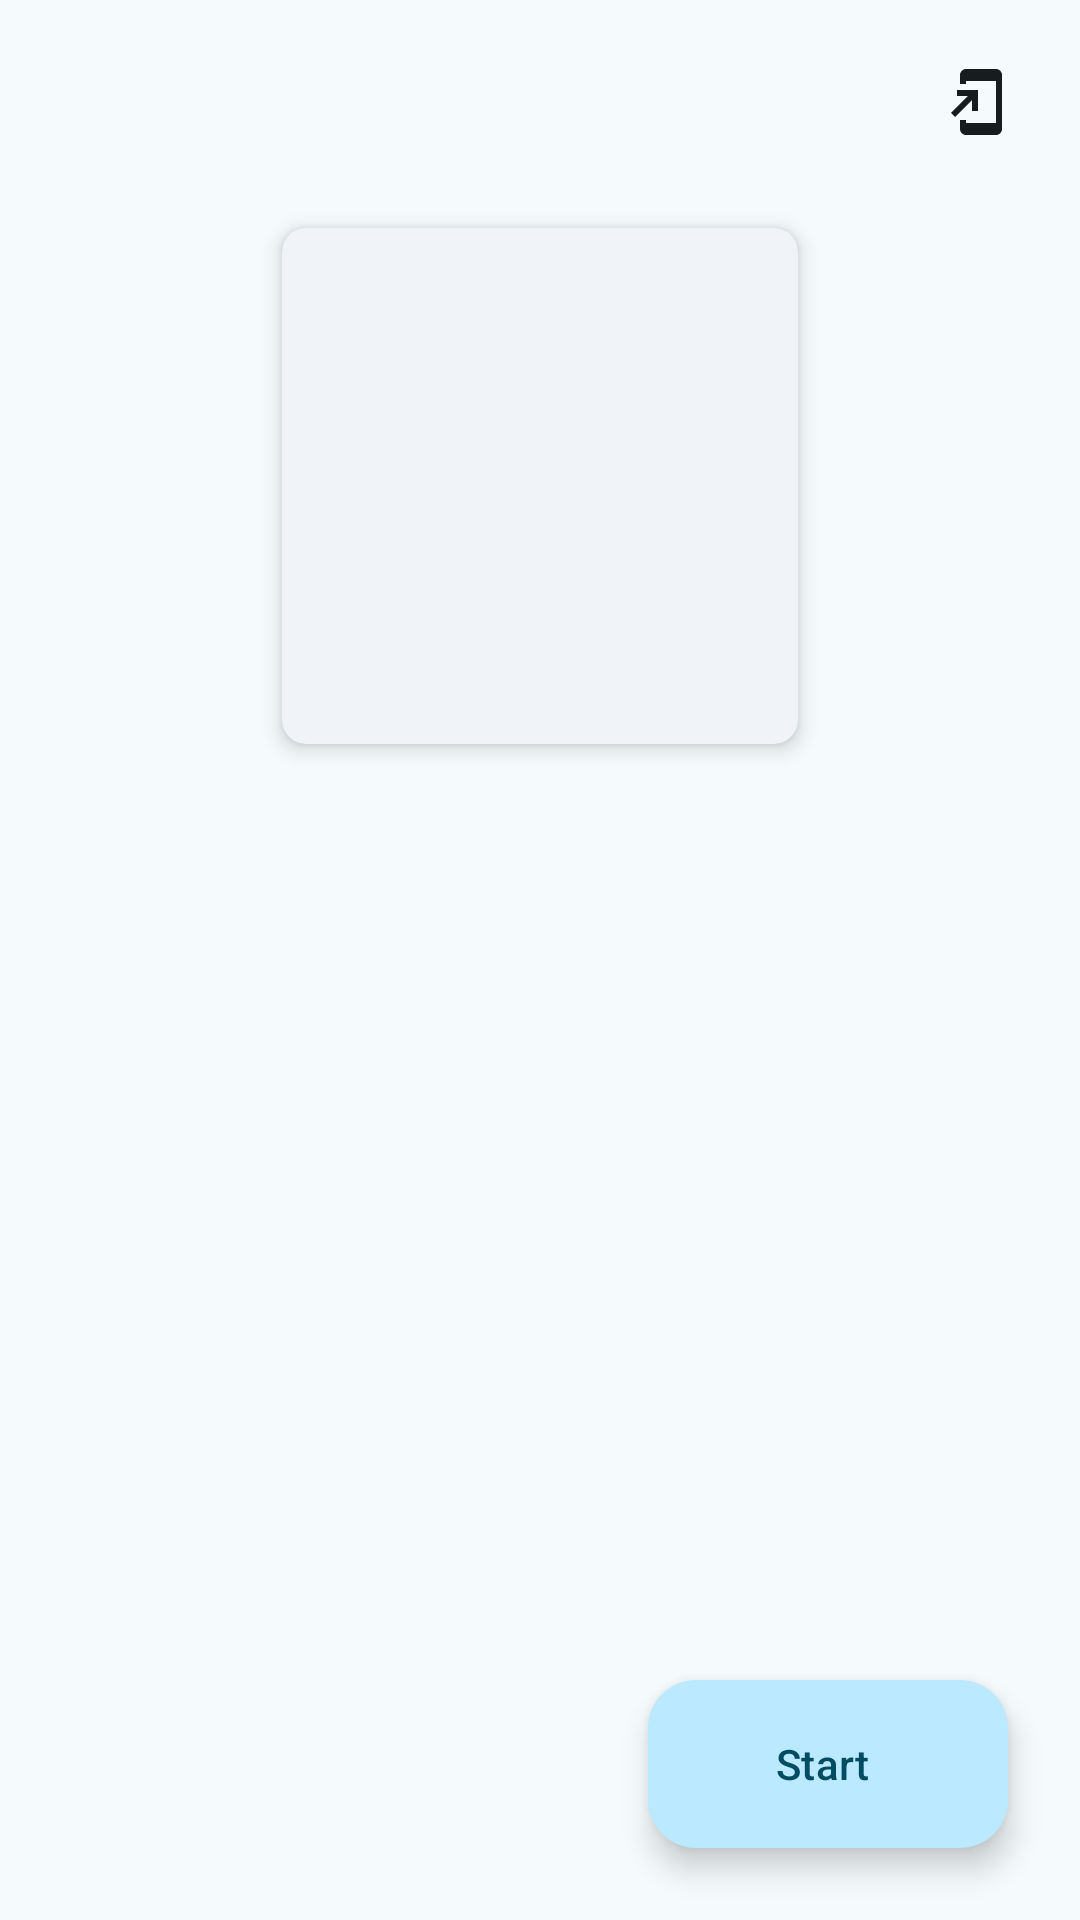

Icons on this 1080x1920 Android screen, each with its box as {"left": x1, "top": y1, "right": x2, "bottom": y2}:
add to home screen: {"left": 951, "top": 69, "right": 1002, "bottom": 135}
